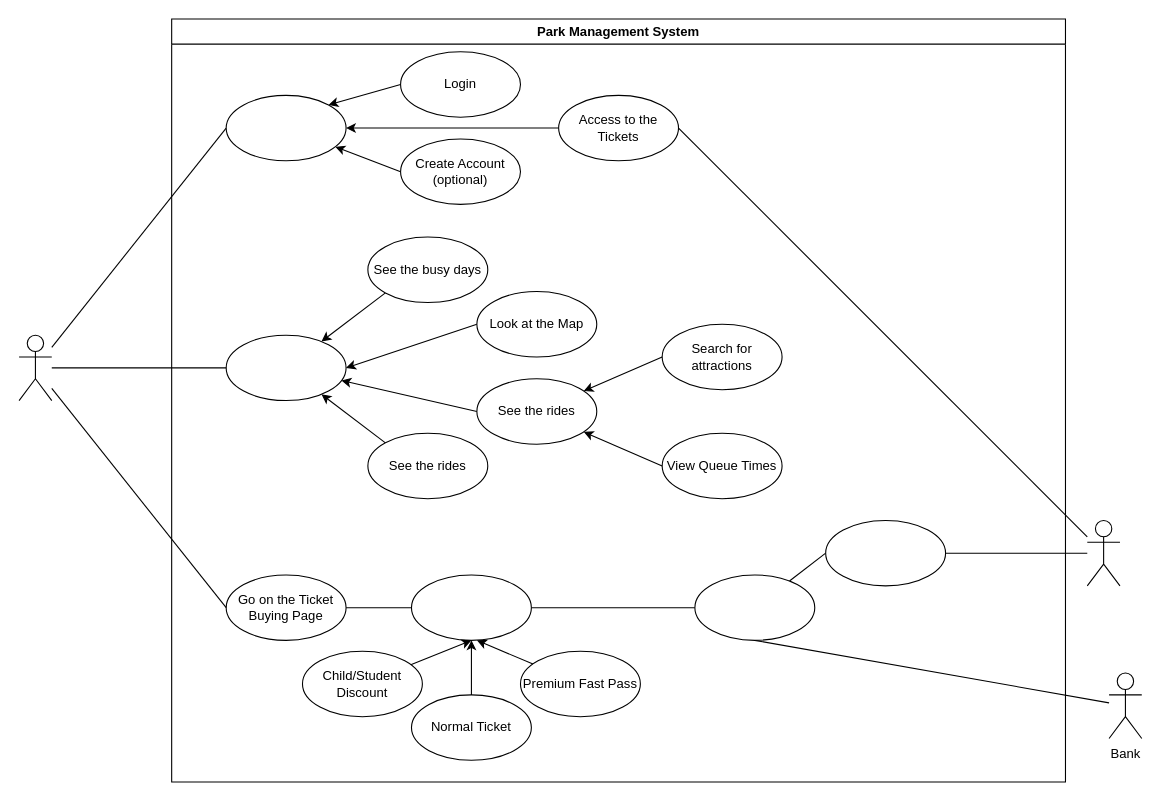
Some shapes in this 1161 by 801 pixel diagram are drawn without their labels. The centre of each missing label's shape, as x and y in pixels:
Account Management: point 285,127
Choose Date and Type of Ticket: point 470,607
Client: point 35,367
Park System: point 1103,552
Payment: point 754,607
Reservation put in the Database: point 885,552
See informations about the Park: point 285,367
